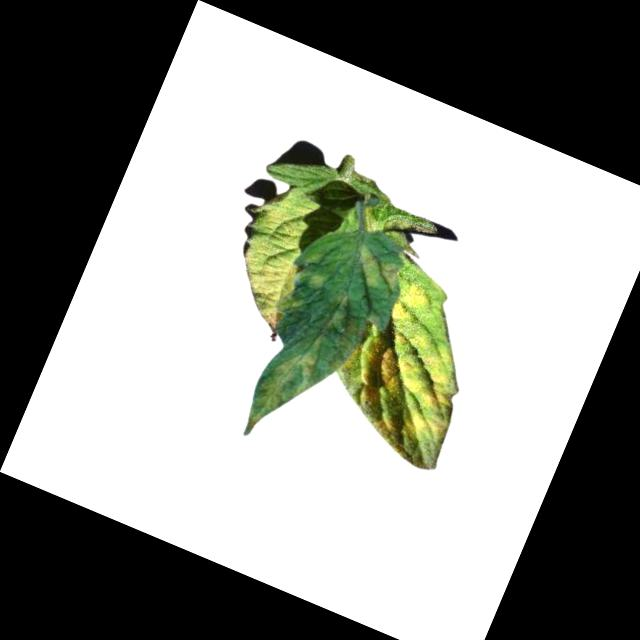Leaf_Mold: (317, 309, 480, 474), (216, 187, 329, 332), (241, 317, 329, 442), (340, 243, 403, 298), (387, 275, 436, 330), (321, 288, 355, 333)
